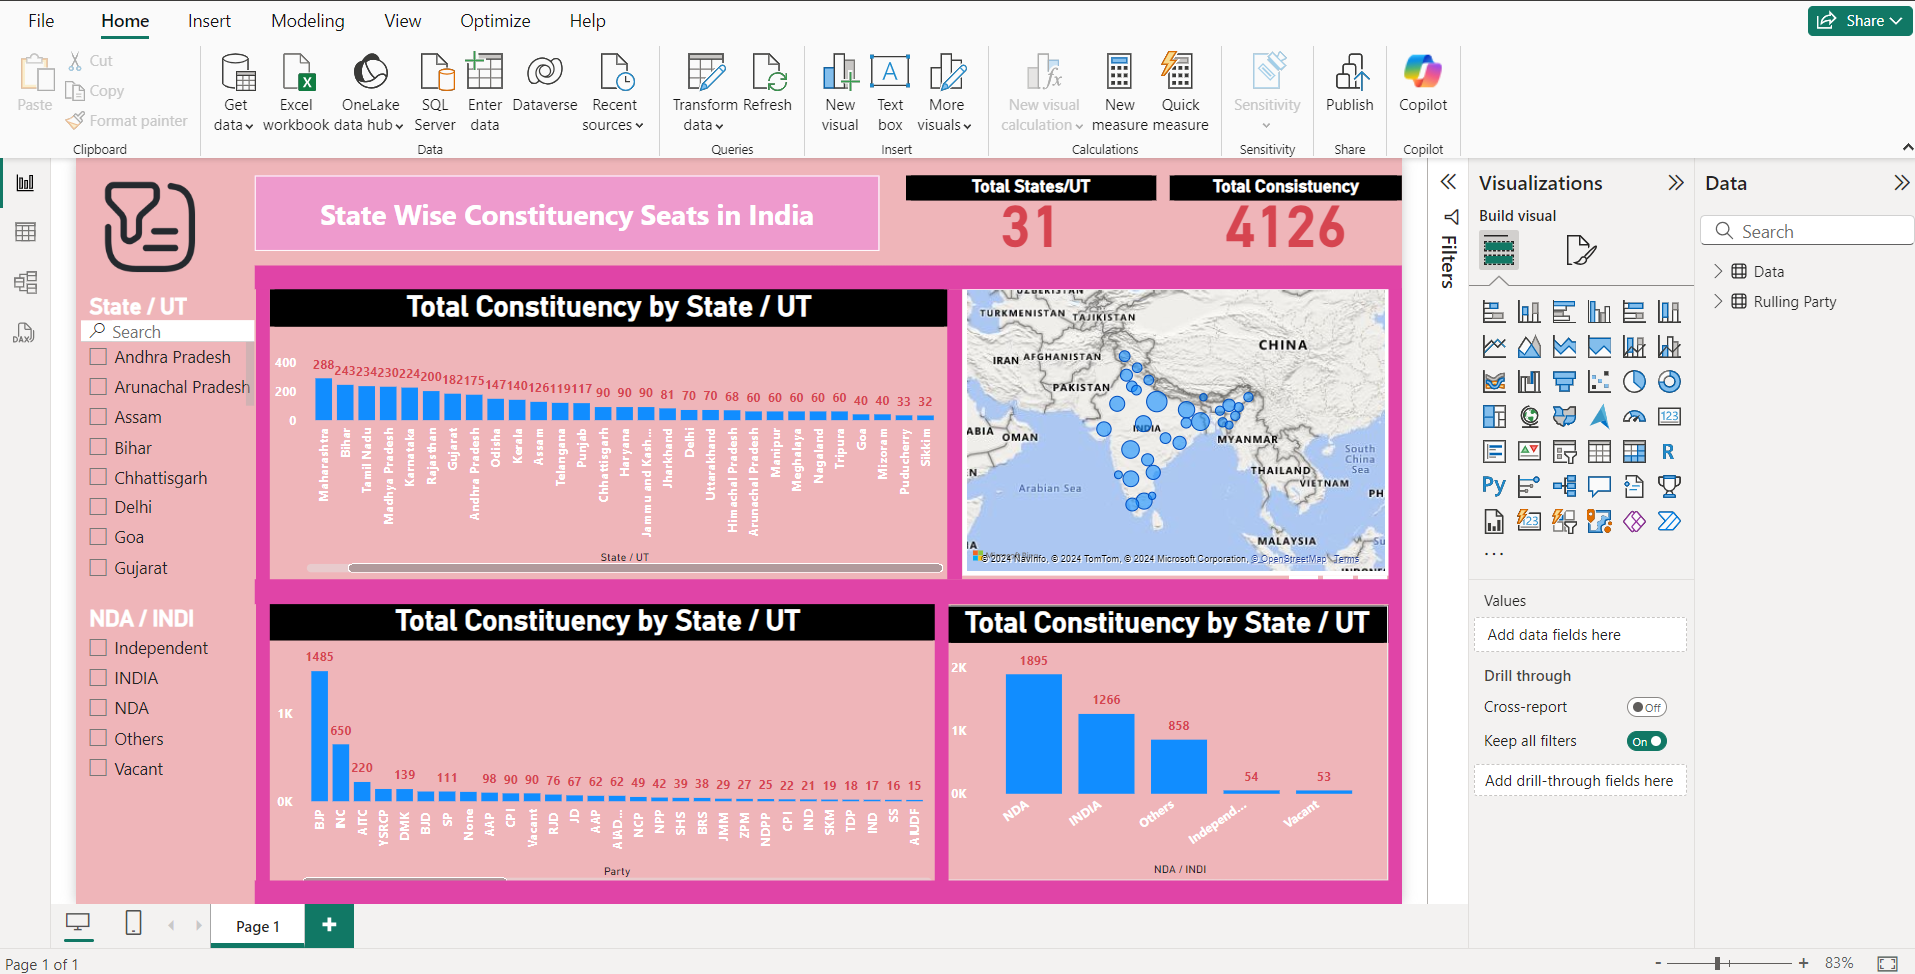

The page's visual inventory and layout, read from the dashboard file:
{"tool":"powerbi","page":{"name":"Page 1","canvas":[1280,720],"ordinal":0},"visuals":[{"type":"card","title":"Total States/UT","fields":{"Values":["Count(Data.State / UT)"]},"box":[801.7,16.7,241.7,86.7],"z":0},{"type":"card","title":"Total Consistuency","fields":{"Values":["Sum(Data.Total Constituency)"]},"box":[1055.6,16.9,224.4,86.9],"z":1000},{"type":"clusteredColumnChart","title":" Total Constituency by State / UT","fields":{"Category":["Data.State / UT"],"Y":["Sum(Data.Total Constituency)"]},"box":[186.7,126.7,655,278.3],"z":2000},{"type":"map","fields":{"Category":["Data.State / UT"],"Size":["Sum(Data.Total Constituency)"]},"box":[855,123.3,413.3,280],"z":3000},{"type":"clusteredColumnChart","title":" Total Constituency by State / UT","fields":{"Y":["Sum(Data.Total Constituency)"],"Category":["Data.Party"]},"box":[176.7,430,655,278.3],"z":4000},{"type":"clusteredColumnChart","title":" Total Constituency by State / UT","fields":{"Y":["Sum(Data.Total Constituency)"],"Category":["Data.NDA / INDI"]},"box":[840,431.4,427.1,265.7],"z":5000},{"type":"slicer","fields":{"Values":["Data.State / UT"]},"box":[0,125,176.7,293.3],"z":6000},{"type":"slicer","fields":{"Values":["Data.NDA / INDI"]},"box":[0,426.7,176.7,293.3],"z":7000},{"type":"shape","box":[173.3,125,13.3,595],"z":8000},{"type":"shape","box":[1266.7,125,13.3,595],"z":9000},{"type":"shape","box":[841.4,127.1,14.3,280],"z":10000},{"type":"shape","box":[828.3,430,13.3,276.7],"z":11000},{"type":"shape","box":[172.9,407.1,1107.1,24.3],"z":12000},{"type":"shape","box":[172.9,104.3,1107.1,22.9],"z":13000},{"type":"shape","box":[172.9,697.1,1107.1,22.9],"z":14000},{"type":"shape","box":[172.9,17.1,602.9,72.9],"z":15000},{"type":"image","box":[20,18.6,101.4,97.1],"z":16000}]}

Visuals, with their boxes on the page's 1280x720 design canvas (x1, y1, x2, y2). These are canvas units, not pixel positions in the 1915x974 screenshot, which may show the page scaled, cropped or inside an application window:
"Total States/UT" card: pyautogui.locateOnScreen(802, 17, 1043, 103)
"Total Consistuency" card: pyautogui.locateOnScreen(1056, 17, 1280, 104)
" Total Constituency by State / UT" clusteredColumnChart: pyautogui.locateOnScreen(187, 127, 842, 405)
map - Data.State / UT x Sum(Data.Total Constituency): pyautogui.locateOnScreen(855, 123, 1268, 403)
" Total Constituency by State / UT" clusteredColumnChart: pyautogui.locateOnScreen(177, 430, 832, 708)
" Total Constituency by State / UT" clusteredColumnChart: pyautogui.locateOnScreen(840, 431, 1267, 697)
slicer - Data.State / UT: pyautogui.locateOnScreen(0, 125, 177, 418)
slicer - Data.NDA / INDI: pyautogui.locateOnScreen(0, 427, 177, 720)
shape: pyautogui.locateOnScreen(173, 125, 187, 720)
shape: pyautogui.locateOnScreen(1267, 125, 1280, 720)
shape: pyautogui.locateOnScreen(841, 127, 856, 407)
shape: pyautogui.locateOnScreen(828, 430, 842, 707)
shape: pyautogui.locateOnScreen(173, 407, 1280, 431)
shape: pyautogui.locateOnScreen(173, 104, 1280, 127)
shape: pyautogui.locateOnScreen(173, 697, 1280, 720)
shape: pyautogui.locateOnScreen(173, 17, 776, 90)
image: pyautogui.locateOnScreen(20, 19, 121, 116)
